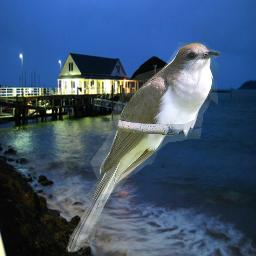Cuckoo: (65, 42, 220, 253)
